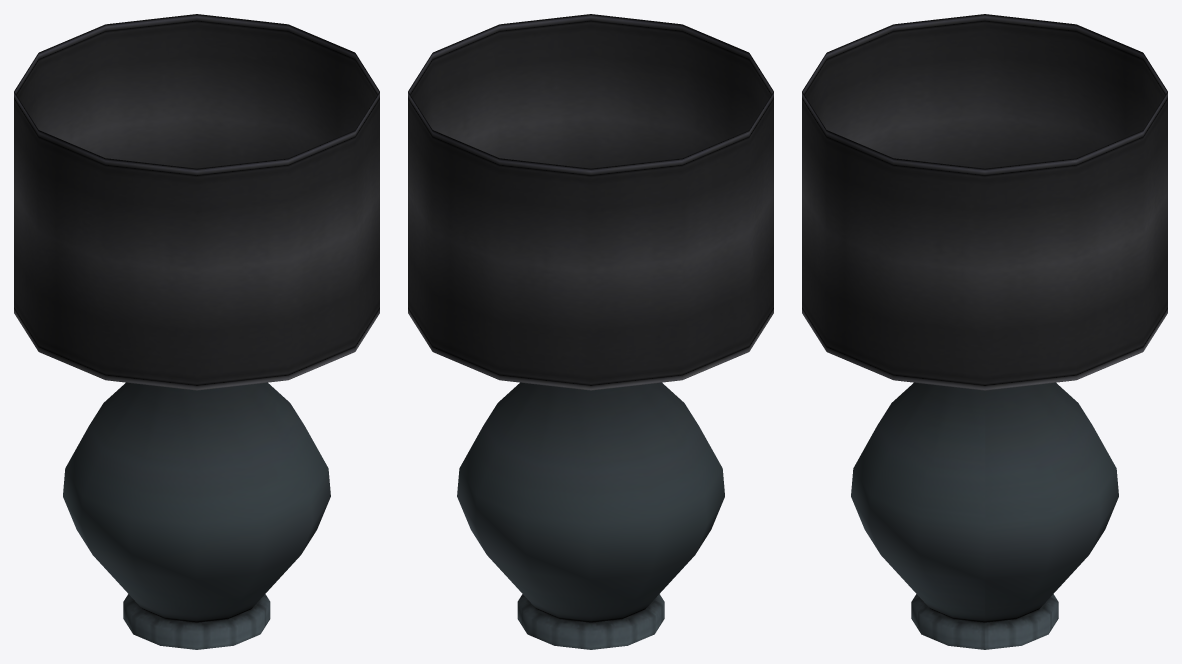
The model's file is TableLamp03.FBX.
3 views of the same model, side by side, from view 1: azimuth 30°, elevation 25°; view 2: azimuth 150°, elevation 25°; view 3: azimuth 270°, elevation 25° (orthographic).
Parts seen in each view (by area): view 1: TableLamp03; view 2: TableLamp03; view 3: TableLamp03.
Boxes of the visible parts, x1,y1,x2,y2 form: TableLamp03: (14,14,379,649); TableLamp03: (408,14,773,649); TableLamp03: (802,14,1167,649).
Size of the model in its own units: 41.42 by 41.42 by 65.94.
